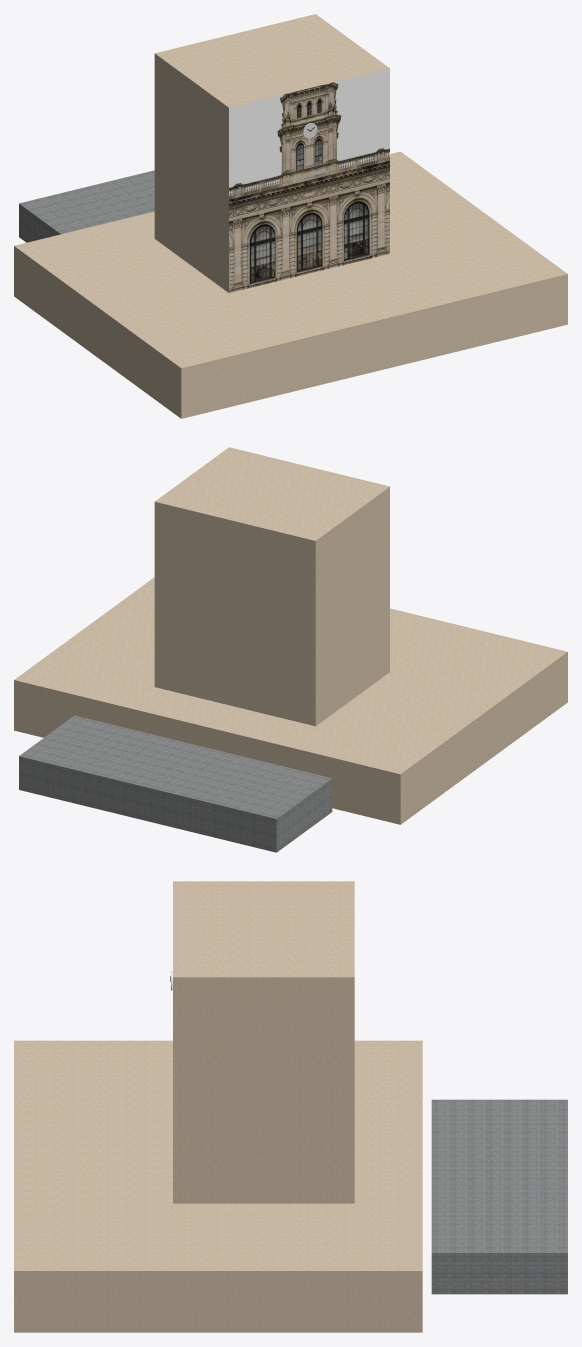
The model's file is central-station_lod0.gltf.
3 renders of one model, top to bottom at view 1: azimuth 30°, elevation 25°; view 2: azimuth 150°, elevation 25°; view 3: azimuth 270°, elevation 25°, orthographic. The views are drawn at different scales.
Visible parts, largest first — view 1: central-station_tier0, central-station_front, central-station_tier1, central-station__train_shed; view 2: central-station_tier1, central-station_tier0, central-station__train_shed; view 3: central-station_tier0, central-station_tier1, central-station__train_shed.
Boxes of the visible parts, x1,y1,x2,y2 form: central-station_tier0: [14, 151, 567, 418]; central-station_front: [229, 68, 389, 292]; central-station_tier1: [154, 14, 389, 292]; central-station__train_shed: [19, 170, 154, 242]; central-station_tier1: [154, 447, 389, 726]; central-station_tier0: [14, 577, 567, 824]; central-station__train_shed: [19, 715, 332, 852]; central-station_tier0: [14, 1040, 422, 1332]; central-station_tier1: [173, 881, 354, 1203]; central-station__train_shed: [431, 1099, 567, 1294].
Bounding box in the file's own units: 120 × 70 × 122.
